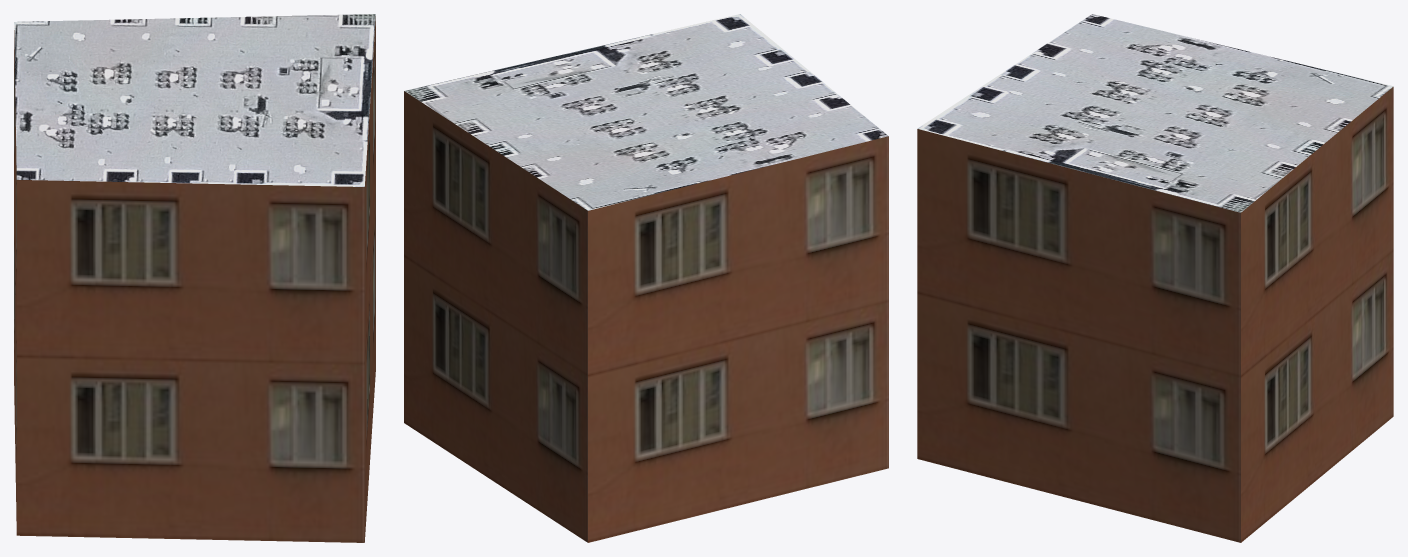
File: ResTex__5200.fbx
3 renders of one model, left to right at view 1: azimuth 30°, elevation 25°; view 2: azimuth 150°, elevation 25°; view 3: azimuth 270°, elevation 25°, orthographic. The views are drawn at different scales.
Parts seen in each view (by area): view 1: CityEngineMaterial_20_m, CityEngineMaterial_m; view 2: CityEngineMaterial_20_m, CityEngineMaterial_m; view 3: CityEngineMaterial_20_m, CityEngineMaterial_m.
Boxes of the visible parts, left/top/right/bottom form: CityEngineMaterial_20_m: left=14, top=16, right=375, bottom=542; CityEngineMaterial_m: left=14, top=14, right=375, bottom=186; CityEngineMaterial_20_m: left=404, top=91, right=888, bottom=542; CityEngineMaterial_m: left=404, top=14, right=888, bottom=210; CityEngineMaterial_20_m: left=917, top=87, right=1393, bottom=542; CityEngineMaterial_m: left=917, top=14, right=1393, bottom=212.
Bounding box in the file's own units: 7.75 × 6 × 7.85.
2 materials, 2 textured.
